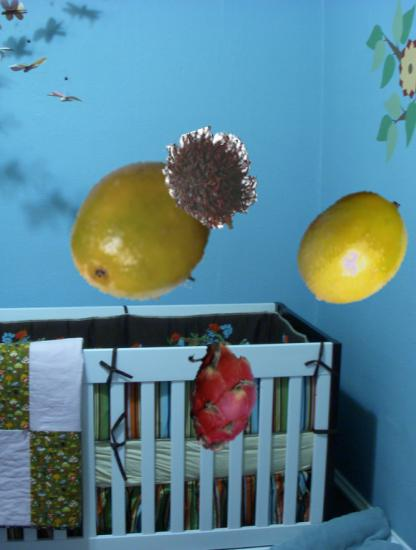Maracuja: (69, 157, 219, 307), (290, 186, 415, 311)
Pitahaya: (171, 342, 279, 450)
Rambutan: (159, 128, 264, 233)
